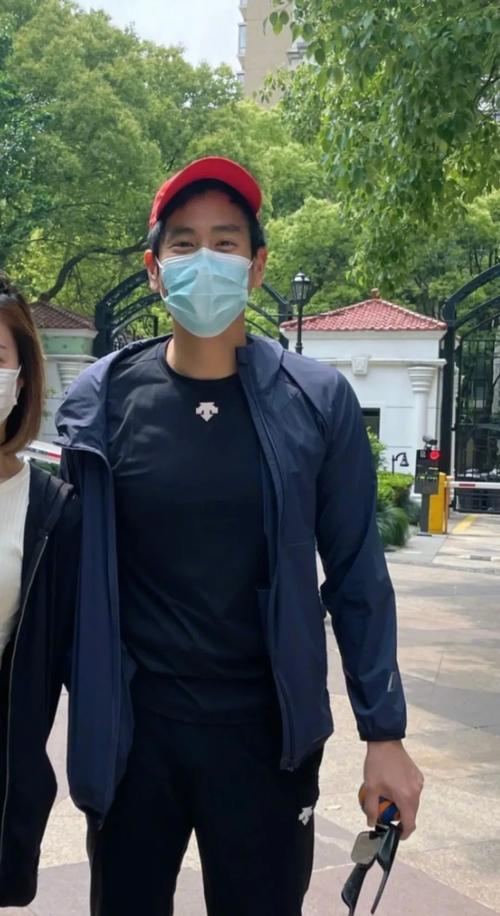mask: (143, 192, 268, 336)
